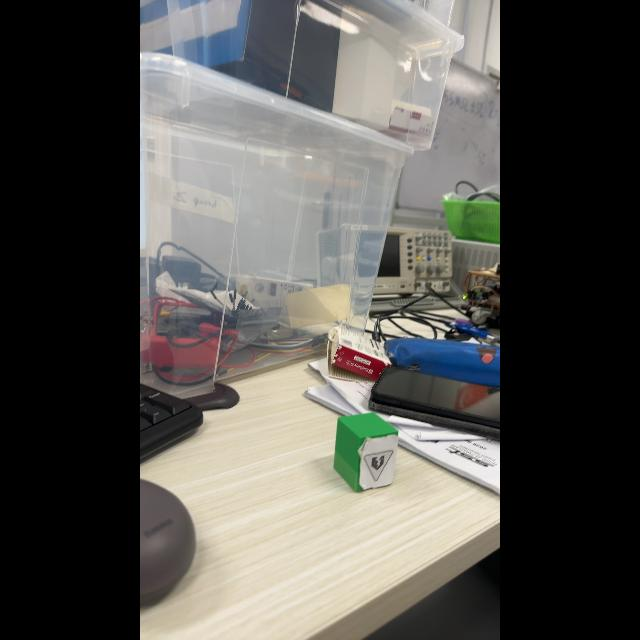Earthquake: (365, 451, 393, 481)
